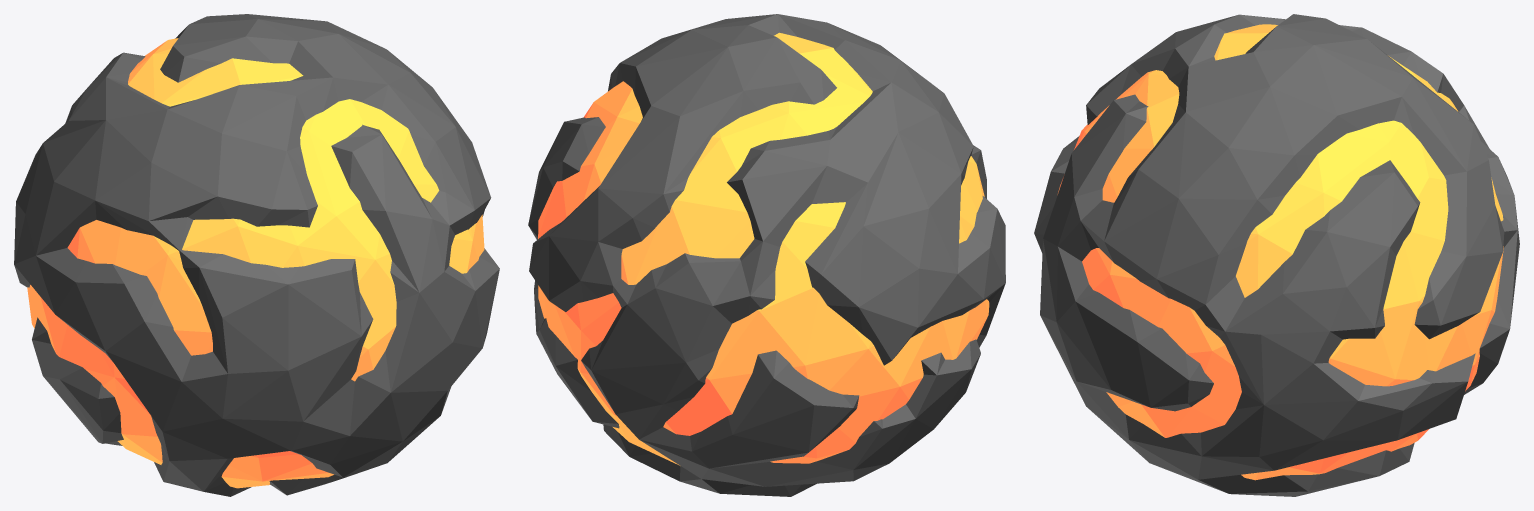
Rendered from lava_planet.fbx.
3 views of the same model, side by side, from view 1: azimuth 30°, elevation 25°; view 2: azimuth 150°, elevation 25°; view 3: azimuth 270°, elevation 25° (orthographic).
Visible parts, largest first — view 1: lava_planet; view 2: lava_planet; view 3: lava_planet.
Boxes of the visible parts, x1,y1,x2,y2 form: lava_planet: (14,14,499,496); lava_planet: (528,14,1005,496); lava_planet: (1034,14,1519,496).
Bounding box in the file's own units: 200 × 201 × 200.
